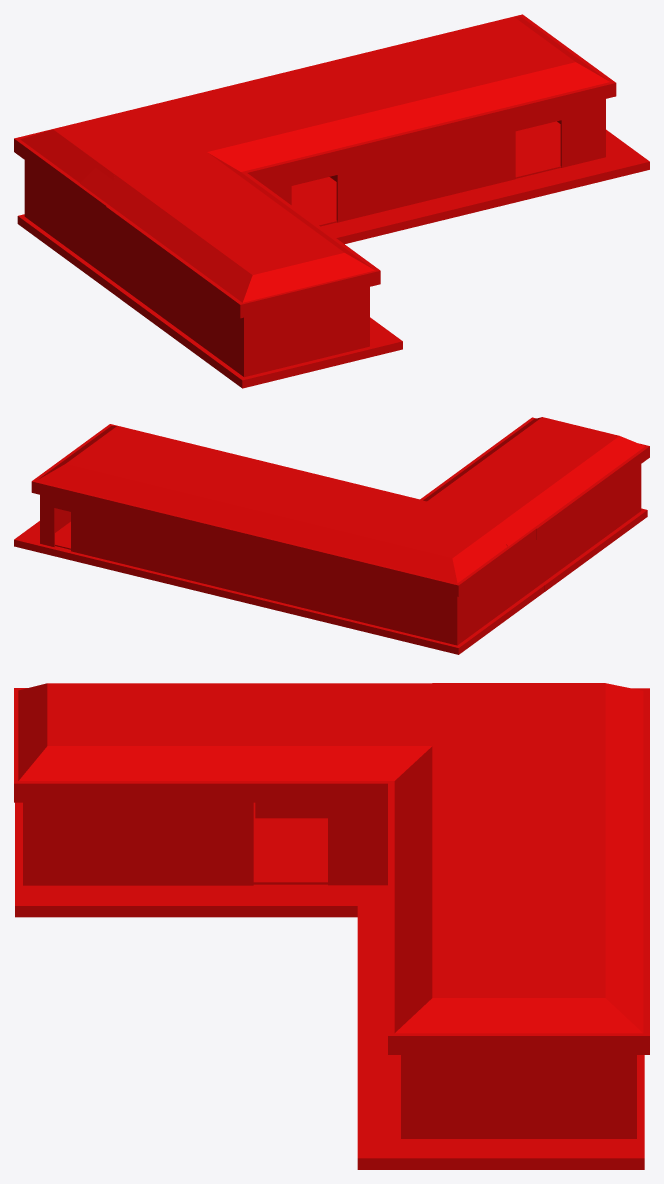
File: SM_Bld_Market_Medium_01_Collision.fbx
3 views of the same model, one above another, from view 1: azimuth 30°, elevation 25°; view 2: azimuth 150°, elevation 25°; view 3: azimuth 270°, elevation 25° (orthographic). The views are drawn at different scales.
Parts seen in each view (by area): view 1: SM_Bld_Market_Medium_01_Collision; view 2: SM_Bld_Market_Medium_01_Collision; view 3: SM_Bld_Market_Medium_01_Collision.
Boxes of the visible parts, left/top/right/bottom form: SM_Bld_Market_Medium_01_Collision: left=14, top=14, right=649, bottom=388; SM_Bld_Market_Medium_01_Collision: left=14, top=417, right=649, bottom=654; SM_Bld_Market_Medium_01_Collision: left=14, top=683, right=649, bottom=1169.
Size of the model in its own units: 2489 by 445 by 1839.
